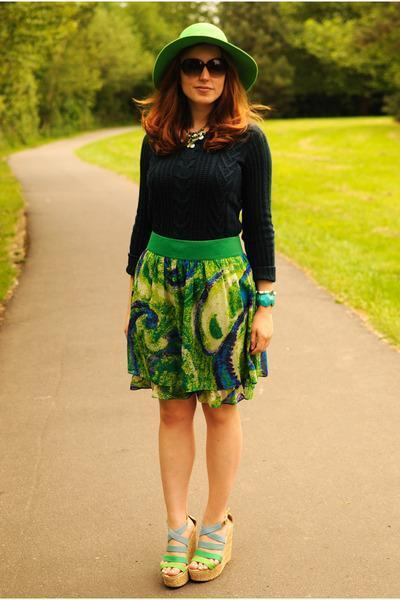hat: (158, 36, 241, 73)
jacket: (126, 127, 274, 284)
shoe: (167, 521, 221, 552)
skirt: (127, 230, 275, 409)
